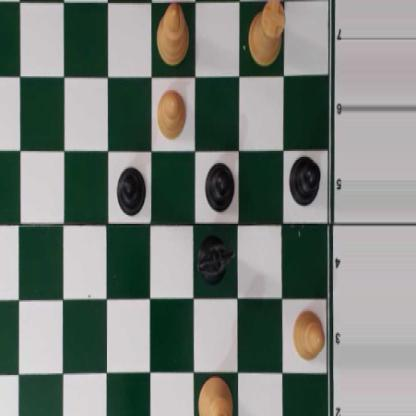black-knight: (197, 232, 235, 285)
black-pawn: (288, 154, 320, 206), (115, 165, 147, 215), (205, 158, 233, 212)
white-bishop: (156, 2, 189, 66)
white-king: (196, 373, 233, 416)
white-pawn: (291, 308, 325, 363), (155, 85, 186, 140)
white-rook: (248, 0, 286, 67)
